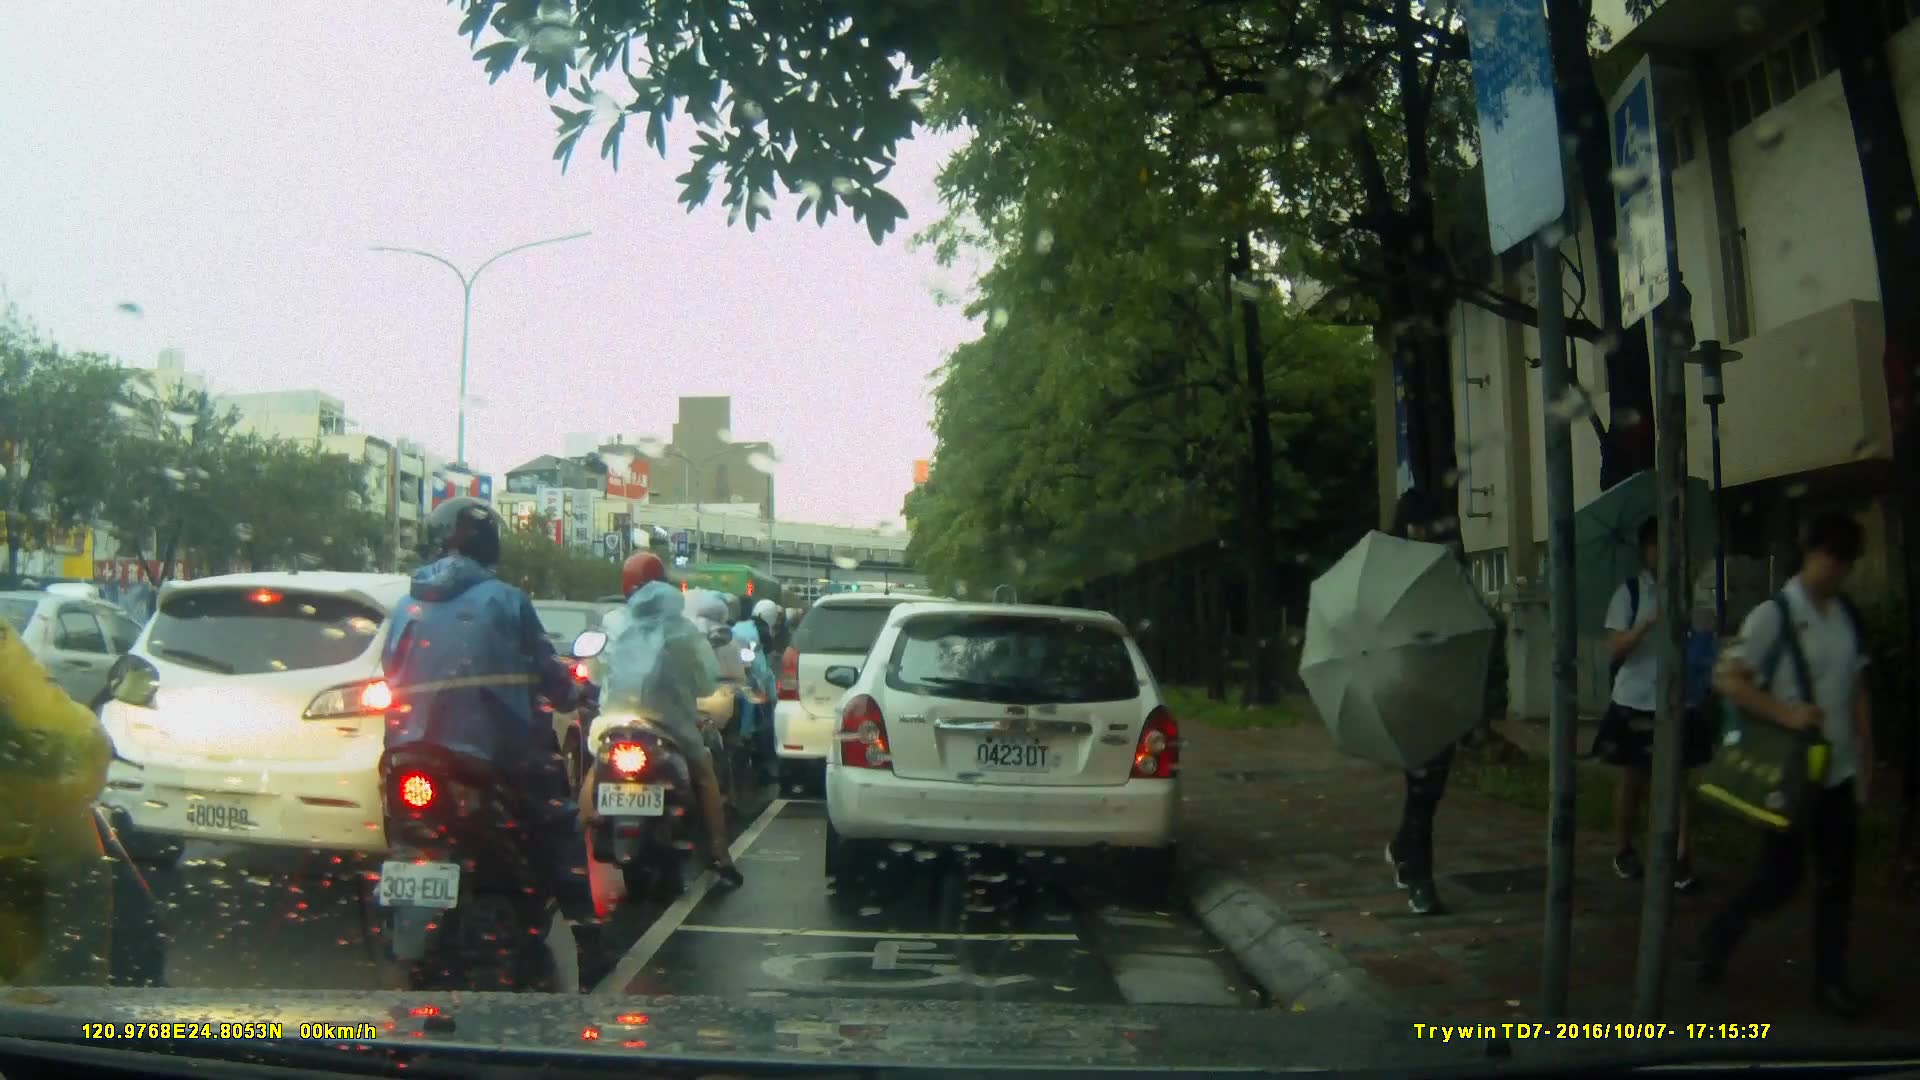pedestrian: (1708, 495, 1870, 1017), (1387, 473, 1506, 923), (1605, 504, 1724, 908)
rider: (374, 501, 613, 974), (1, 455, 178, 1080), (585, 559, 748, 883), (641, 580, 764, 823), (713, 594, 788, 768)
vehicle: (97, 569, 617, 883), (822, 604, 1188, 883), (774, 595, 995, 802), (7, 591, 200, 737)
